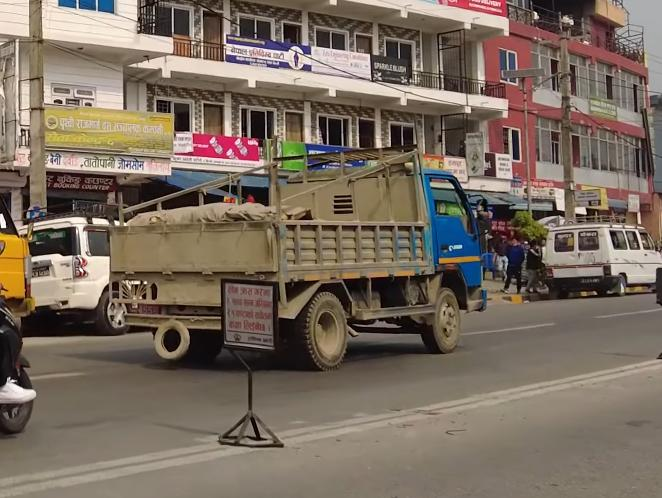SUV: (531, 200, 662, 310), (9, 209, 126, 328)
mini_truck: (103, 136, 488, 368)
